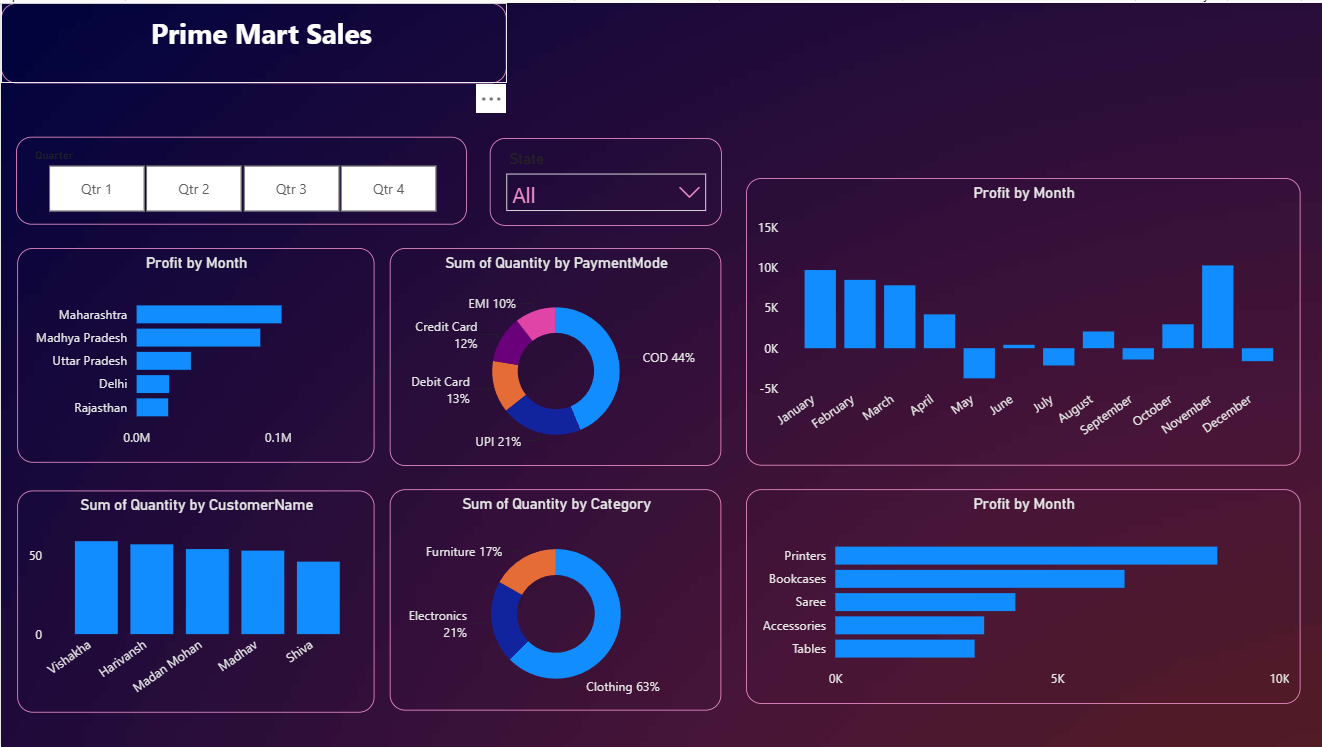

Layout of this report page (visuals, bound fields, positions):
{"tool":"powerbi","page":{"name":"Page 1","canvas":[1280,720],"ordinal":0},"visuals":[{"type":"textbox","box":[0,0,488.1,77.7],"z":0},{"type":"columnChart","title":"Profit by Month","fields":{"Y":["Sum(Details.Profit)"],"Category":["Orders.Order Date.Variation.Date Hierarchy.Month"]},"box":[718.5,169.3,535.4,277.6],"z":1000},{"type":"clusteredBarChart","title":"Profit by Month","fields":{"Category":["Details.Sub-Category"],"Y":["Sum(Details.Profit)"]},"box":[718.5,469.8,535.4,207.5],"z":2000},{"type":"donutChart","fields":{"Category":["Details.Category"],"Y":["Sum(Details.Quantity)"]},"box":[375.3,469.8,320.3,213.6],"z":3000},{"type":"donutChart","fields":{"Y":["Sum(Details.Quantity)"],"Category":["Details.PaymentMode"]},"box":[375.3,236.4,320.3,210.5],"z":4000},{"type":"clusteredBarChart","title":"Profit by Month","fields":{"Category":["Orders.State"],"Y":["Sum(Details.Amount)"]},"box":[15.2,236,344.7,207.5],"z":5000},{"type":"columnChart","fields":{"Category":["Orders.CustomerName"],"Y":["Sum(Details.Quantity)"]},"box":[15.2,470.4,345,214],"z":6000},{"type":"slicer","fields":{"Values":["Orders.State"]},"box":[472,130.5,224.3,85],"z":7000},{"type":"slicer","fields":{"Values":["Orders.Order Date.Variation.Date Hierarchy.Quarter"]},"box":[14.7,129,435.4,85],"z":8000}]}

Visuals, with their boxes in screenshot pixels (x1, y1, x2, y2), scaled from the page's 1280x720 canvas onto the 1322x747 screenshot:
textbox: x1=0, y1=0, x2=504, y2=81
"Profit by Month" columnChart: x1=742, y1=176, x2=1295, y2=464
"Profit by Month" clusteredBarChart: x1=742, y1=487, x2=1295, y2=703
donutChart - Details.Category x Sum(Details.Quantity): x1=388, y1=487, x2=718, y2=709
donutChart - Sum(Details.Quantity) x Details.PaymentMode: x1=388, y1=245, x2=718, y2=464
"Profit by Month" clusteredBarChart: x1=16, y1=245, x2=372, y2=460
columnChart - Orders.CustomerName x Sum(Details.Quantity): x1=16, y1=488, x2=372, y2=710
slicer - Orders.State: x1=487, y1=135, x2=719, y2=224
slicer - Orders.Order Date.Variation.Date Hierarchy.Quarter: x1=15, y1=134, x2=465, y2=222
